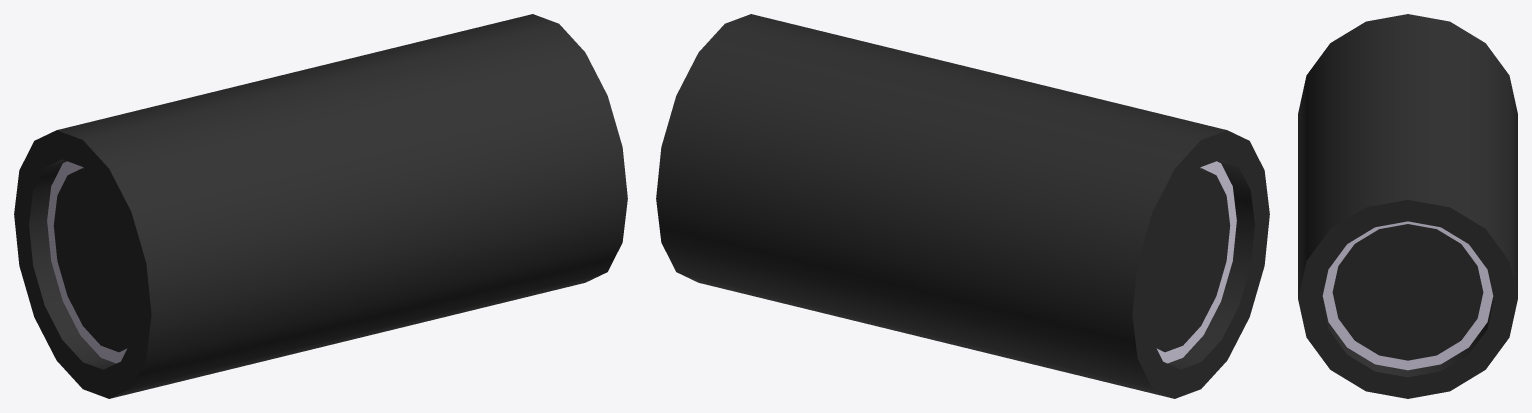
Rendered from Robot Pivot.fbx.
The picture shows the model from 3 angles, left to right: view 1: azimuth 30°, elevation 25°; view 2: azimuth 150°, elevation 25°; view 3: azimuth 270°, elevation 25°; orthographic projection. The views are drawn at different scales.
Visible parts, largest first — view 1: Robot Pivot; view 2: Robot Pivot; view 3: Robot Pivot.
Part boxes in pixels (<box>): Robot Pivot: <box>14,14,627,398</box>; Robot Pivot: <box>656,14,1269,398</box>; Robot Pivot: <box>1298,14,1517,398</box>.
Size of the model in its own units: 103 by 51.46 by 51.46.
